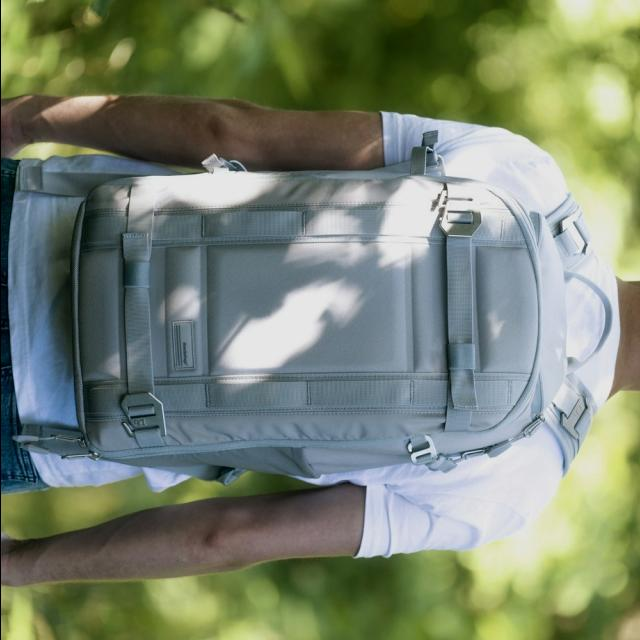backpack: (16, 133, 615, 487)
